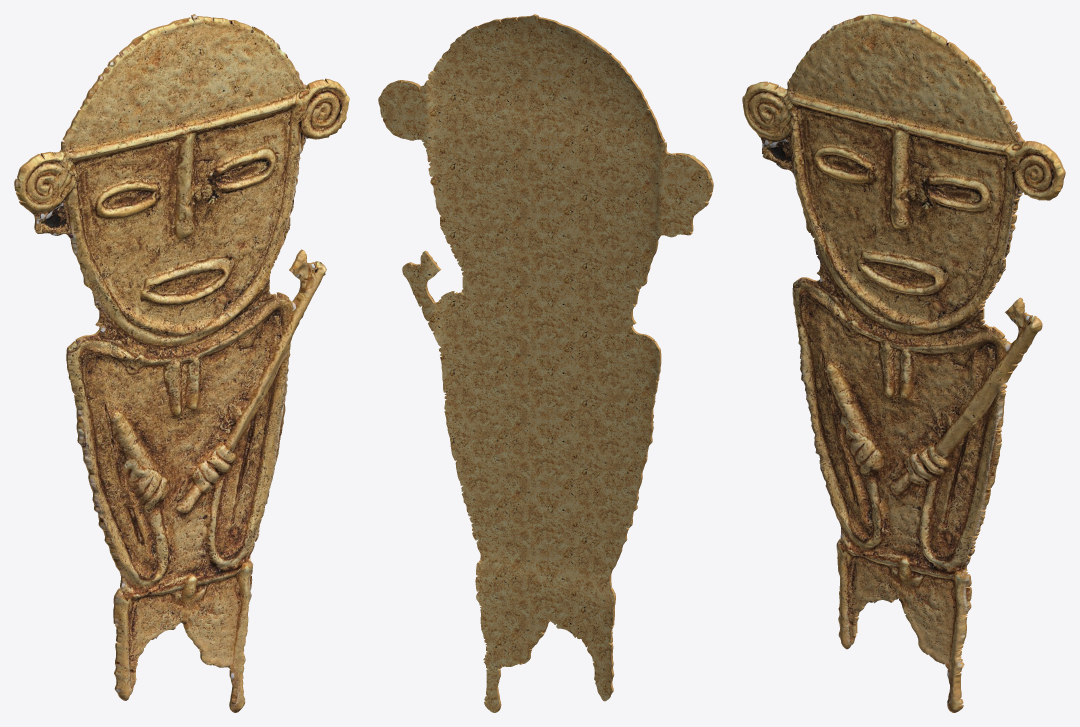
The model's file is figura_masculina_tunjo.glb.
3 renders of one model, left to right at view 1: azimuth 30°, elevation 25°; view 2: azimuth 150°, elevation 25°; view 3: azimuth 330°, elevation 25°, orthographic. The views are drawn at different scales.
Visible parts, largest first — view 1: figura_masculina_tunjo; view 2: figura_masculina_tunjo; view 3: figura_masculina_tunjo.
Part boxes in pixels (<box>): figura_masculina_tunjo: <box>14,14,349,712</box>; figura_masculina_tunjo: <box>378,14,713,712</box>; figura_masculina_tunjo: <box>742,14,1065,712</box>.
Size of the model in its own units: 5.1 by 10.34 by 0.2379.
Materials: 2 (2 with a texture image).
